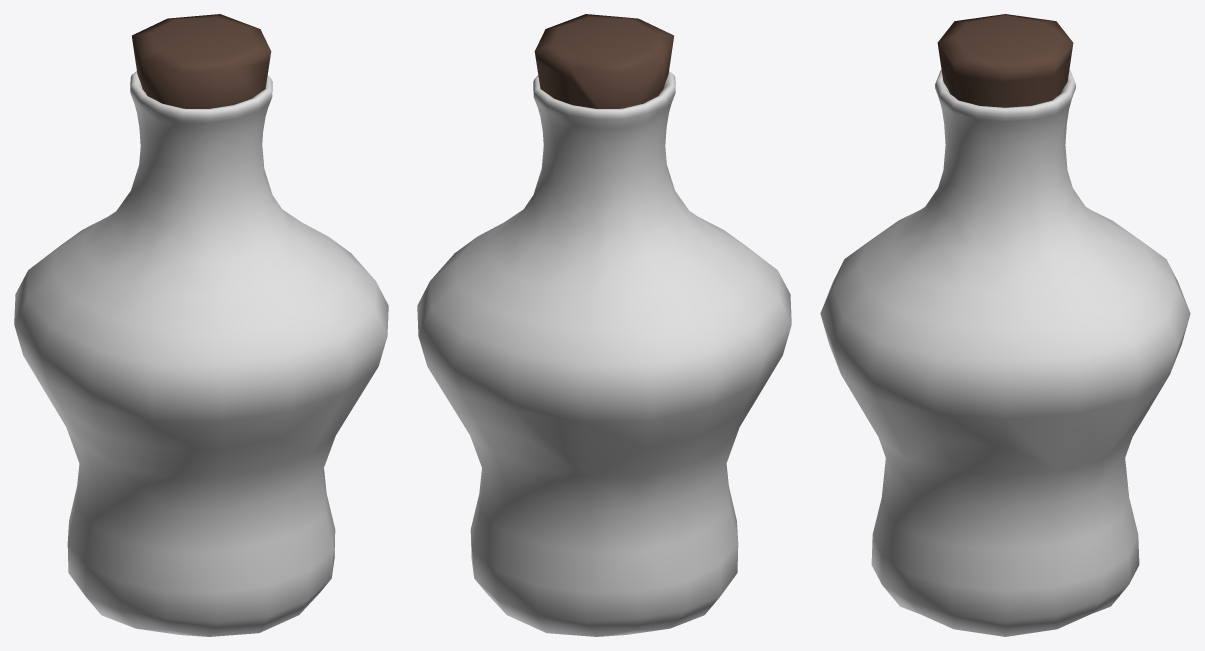
File: quaternius-rpg-items-potion-3-empty.glb
3 renders of one model, left to right at view 1: azimuth 30°, elevation 25°; view 2: azimuth 150°, elevation 25°; view 3: azimuth 270°, elevation 25°, orthographic.
Parts seen in each view (by area): view 1: Potion3_Empty; view 2: Potion3_Empty; view 3: Potion3_Empty.
Boxes of the visible parts, <box> form: Potion3_Empty: <box>14,14,388,636</box>; Potion3_Empty: <box>417,14,791,636</box>; Potion3_Empty: <box>820,14,1190,636</box>.
Size of the model in its own units: 0.7186 by 1.22 by 0.7186.
